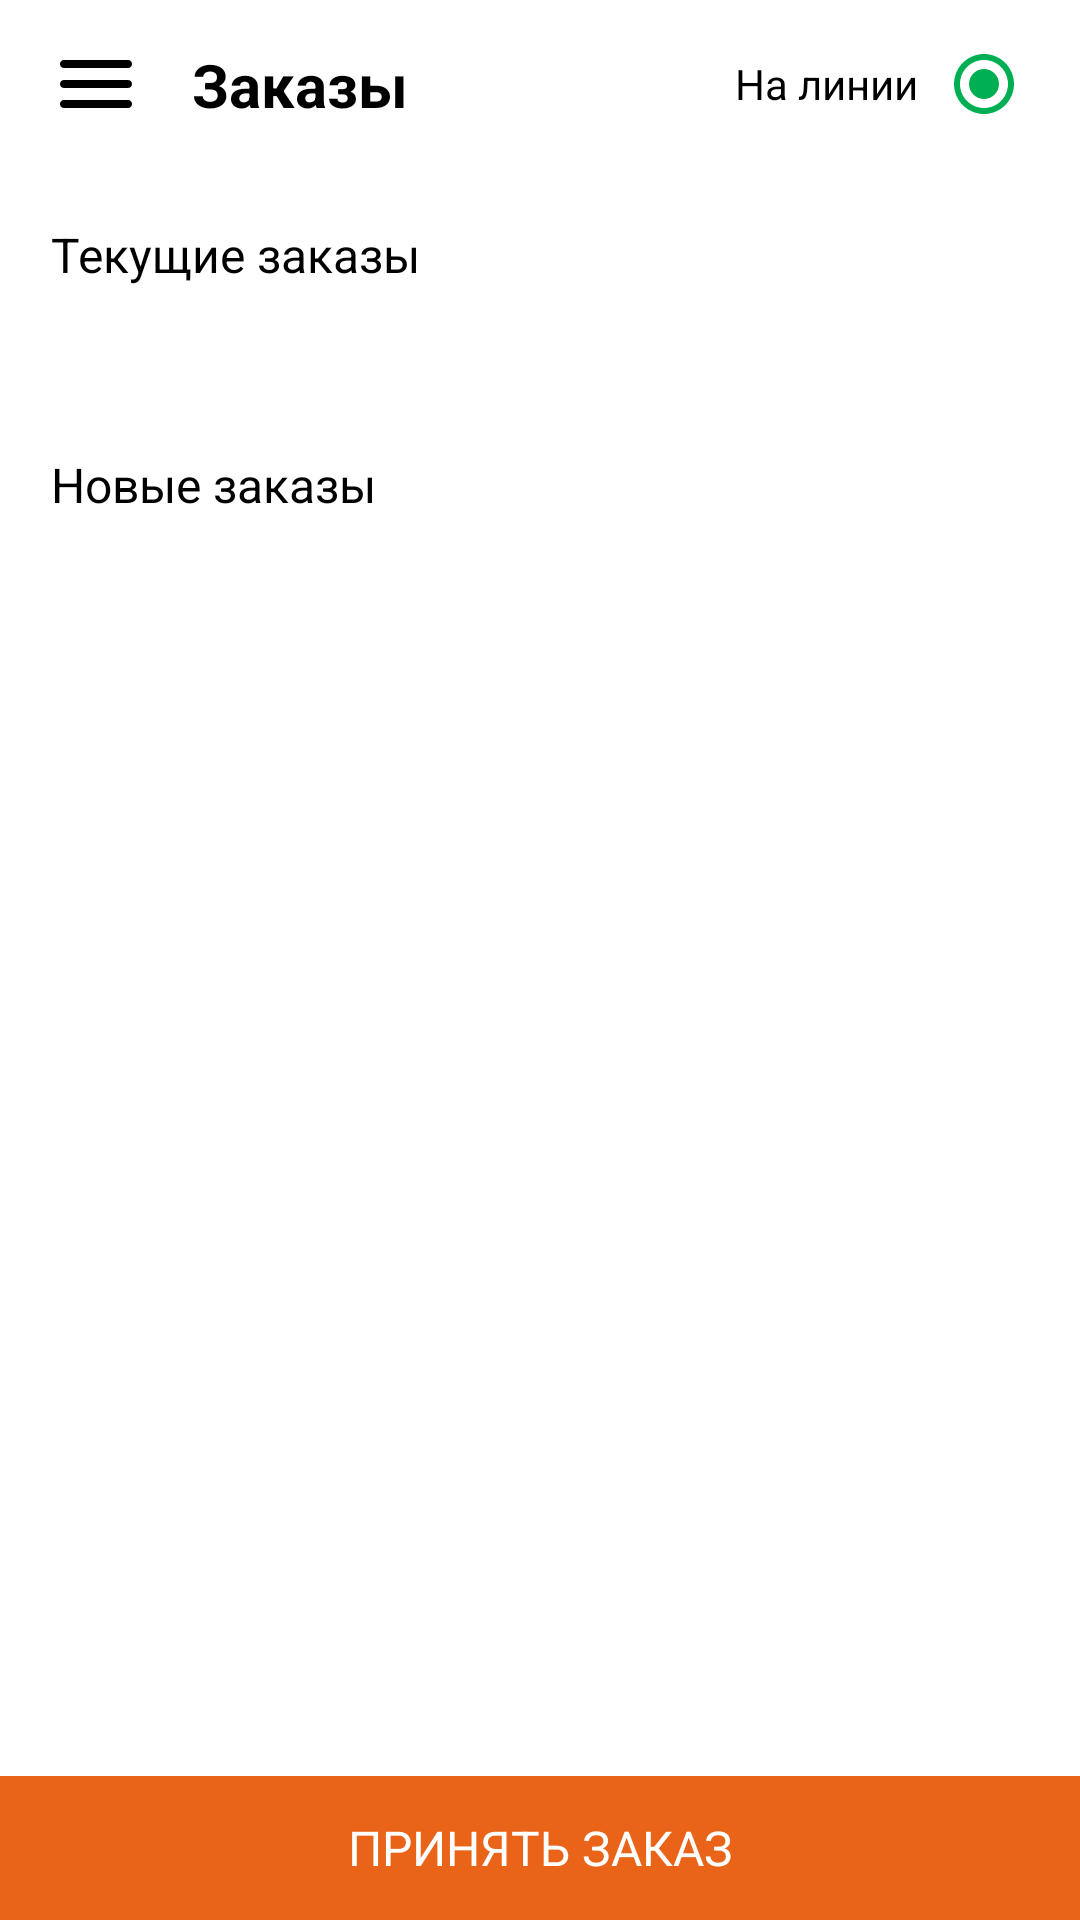

Named icons in this screenshot (1080px x 1920px) and their bounding boxes, region(x1, y1, x2, y2):
menu: region(60, 60, 132, 108)
on the line: region(954, 54, 1014, 114)
